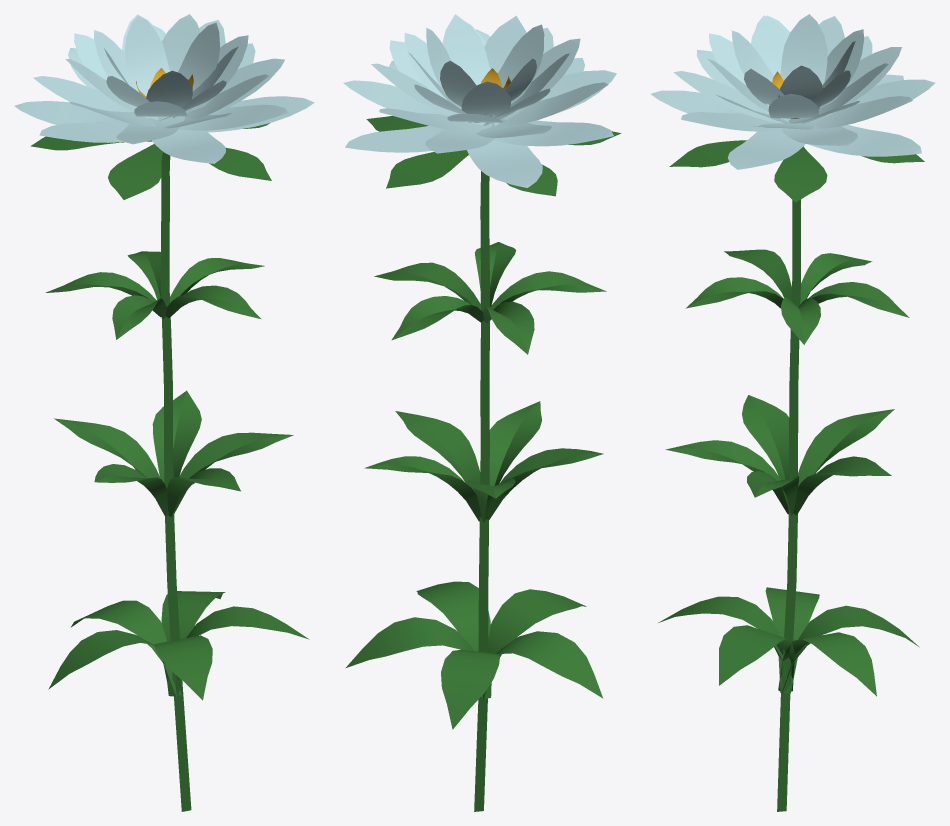
File: plant_lotus_flower_B.fbx
3 renders of one model, left to right at view 1: azimuth 30°, elevation 25°; view 2: azimuth 150°, elevation 25°; view 3: azimuth 270°, elevation 25°, orthographic.
Parts seen in each view (by area): view 1: lotus_flower_B, lotus_flower_B_leaves, lotus_flower_B_twig, lotus_flower_B_top_leaf; view 2: lotus_flower_B_leaves, lotus_flower_B, lotus_flower_B_twig, lotus_flower_B_top_leaf; view 3: lotus_flower_B_leaves, lotus_flower_B, lotus_flower_B_twig, lotus_flower_B_top_leaf.
Part boxes in pixels (x1,y1,x2,y2): lotus_flower_B: [14, 14, 314, 163]; lotus_flower_B_leaves: [45, 251, 309, 700]; lotus_flower_B_twig: [160, 152, 191, 811]; lotus_flower_B_top_leaf: [30, 123, 271, 199]; lotus_flower_B_leaves: [345, 242, 606, 729]; lotus_flower_B: [343, 14, 616, 187]; lotus_flower_B_twig: [474, 171, 489, 811]; lotus_flower_B_top_leaf: [366, 116, 621, 196]; lotus_flower_B_leaves: [658, 249, 919, 696]; lotus_flower_B: [651, 14, 935, 169]; lotus_flower_B_twig: [777, 199, 800, 811]; lotus_flower_B_top_leaf: [669, 140, 924, 202].
Size of the model in its own units: 39.04 by 116 by 39.25.
